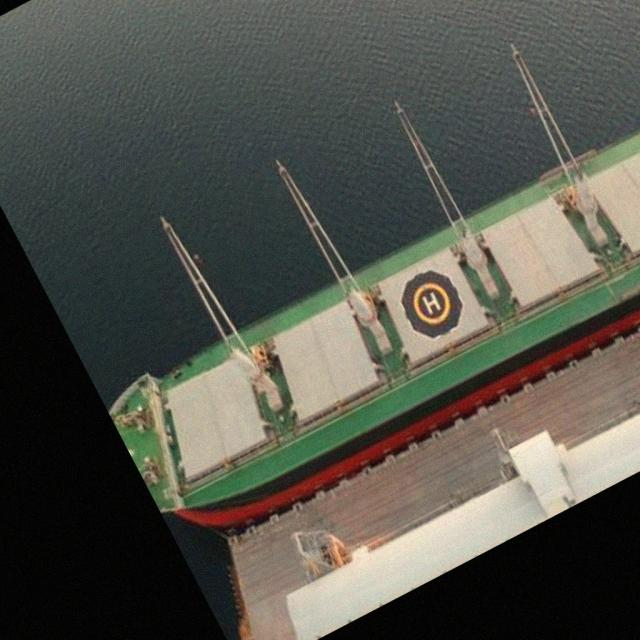helipad: (409, 280, 450, 326)
